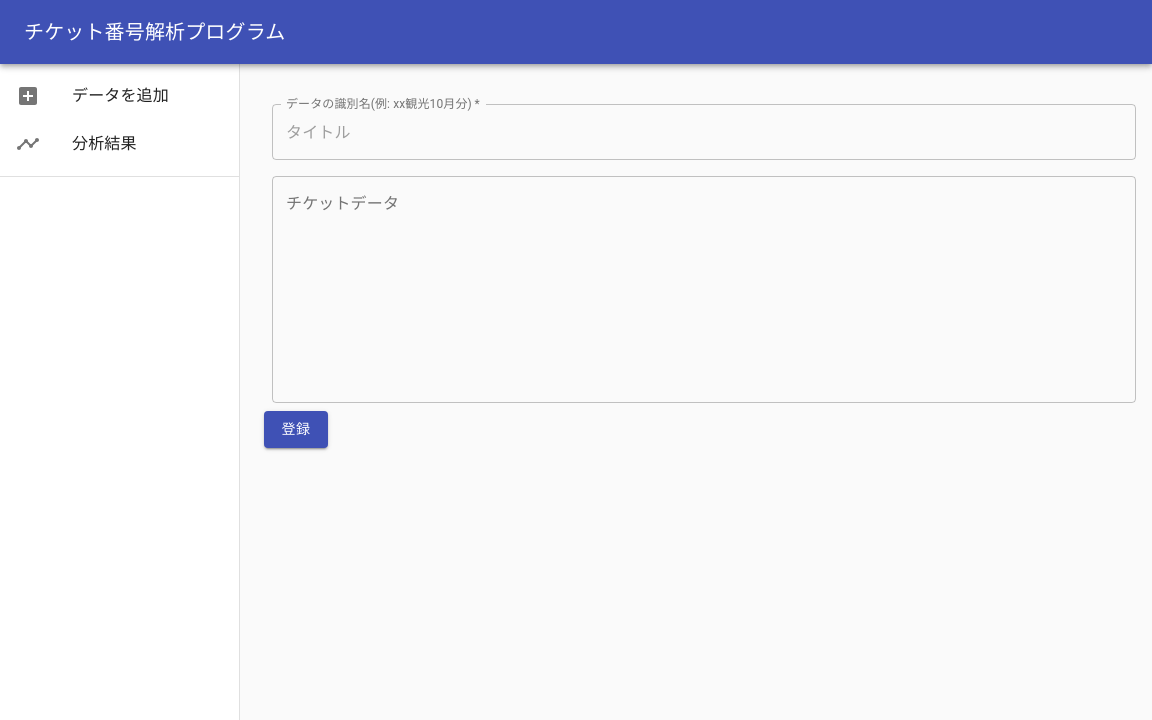
Test: メニューで画面の切り替えができる
Expected: the element with test id "addform" is shown, x1=264 y1=96 x2=1128 y2=448
Click the button "分析結果" at (76, 144), box x1=16 y1=132 x2=137 y2=156
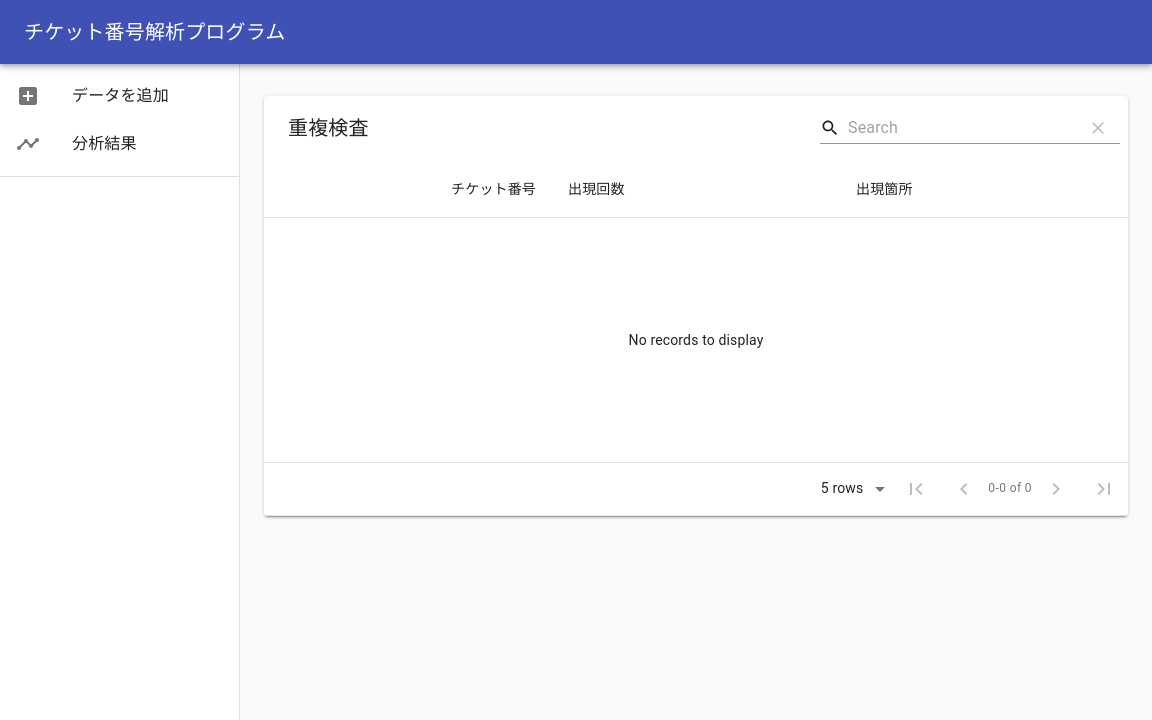
Expected: the element titled "doubles" is shown, x1=264 y1=96 x2=1128 y2=516
Click the button "データを追加" at (92, 96), box x1=16 y1=84 x2=169 y2=108
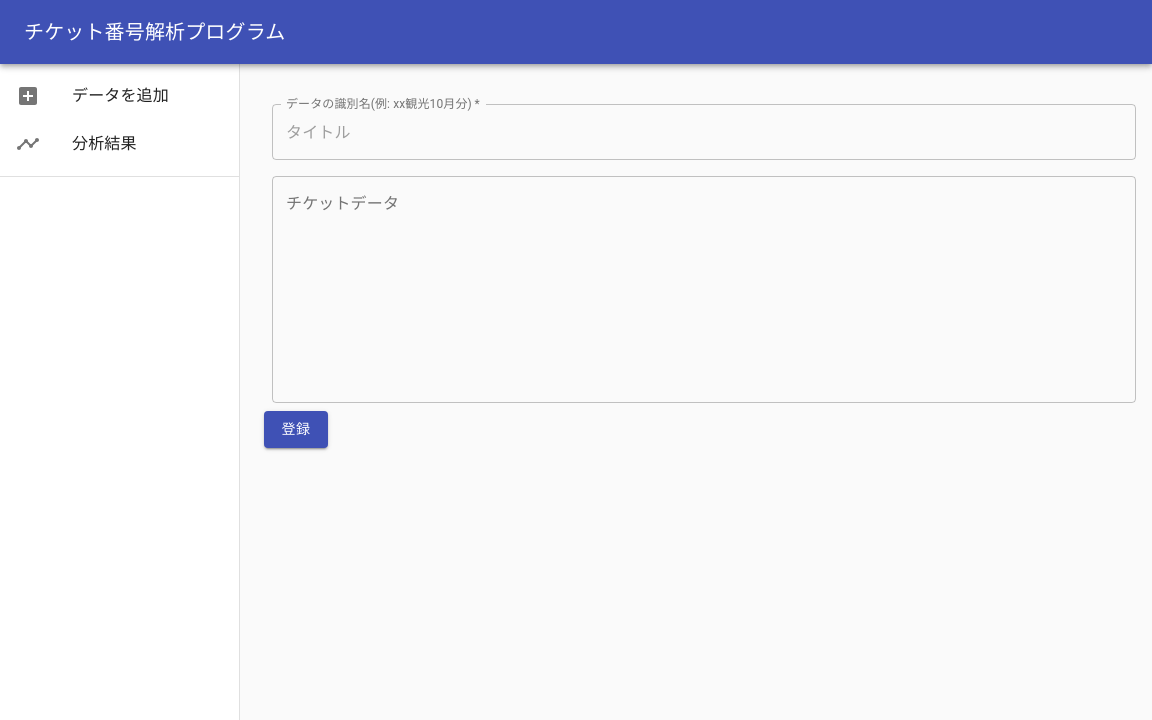
Expected: the element with test id "addform" is shown, x1=264 y1=96 x2=1128 y2=448
